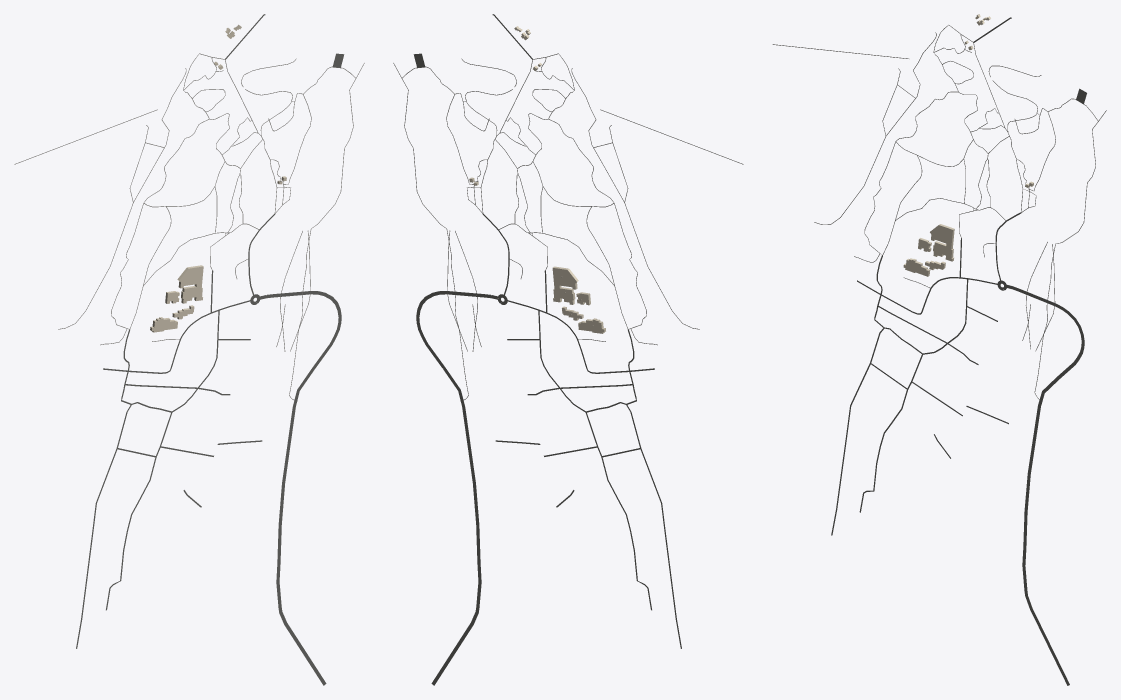
Rendered from historic-palestine-07_31_3491_3254.glb.
3 renders of one model, left to right at view 1: azimuth 30°, elevation 25°; view 2: azimuth 150°, elevation 25°; view 3: azimuth 330°, elevation 25°, orthographic. The views are drawn at different scales.
Parts seen in each view (by area): view 1: Road 6536.001, Building_.003, Road .001; view 2: Road 6536.001, Building_.003, Road .001; view 3: Road 6536.001, Building_.003.
Boxes of the visible parts, left/top/right/bottom form: Road 6536.001: left=276, top=291, right=341, bottom=685; Building_.003: left=177, top=265, right=203, bottom=303; Road .001: left=76, top=402, right=171, bottom=648; Road 6536.001: left=416, top=291, right=481, bottom=685; Building_.003: left=552, top=266, right=578, bottom=304; Road .001: left=586, top=402, right=681, bottom=648; Road 6536.001: left=1022, top=303, right=1084, bottom=685; Building_.003: left=930, top=224, right=954, bottom=261.
Bounding box in the file's own units: 865 × 1618 × 8.7.
